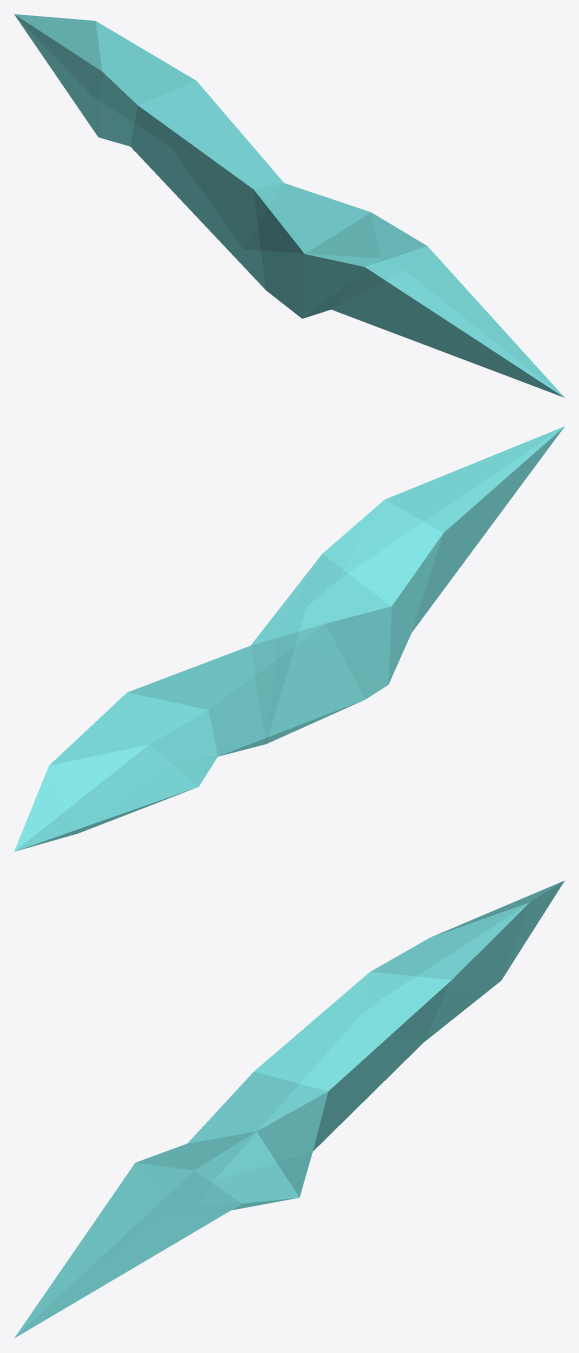
The model's file is Icicle_E.fbx.
The picture shows the model from 3 angles, top to bottom: view 1: azimuth 30°, elevation 25°; view 2: azimuth 150°, elevation 25°; view 3: azimuth 330°, elevation 25°; orthographic projection. The views are drawn at different scales.
Visible parts, largest first — view 1: Icicle_E; view 2: Icicle_E; view 3: Icicle_E.
Part boxes in pixels (x1,y1,x2,y2): Icicle_E: [14, 14, 564, 397]; Icicle_E: [14, 426, 564, 851]; Icicle_E: [14, 880, 564, 1338].
Size of the model in its own units: 0.3329 by 2.81 by 0.3078.
